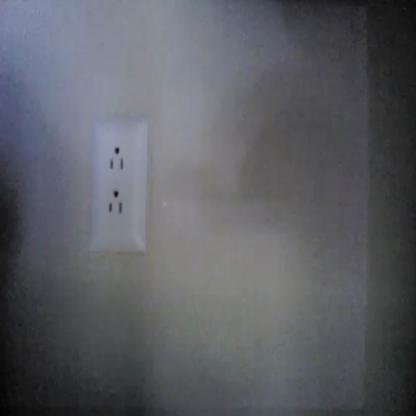OUTLET: (88, 117, 148, 252)
